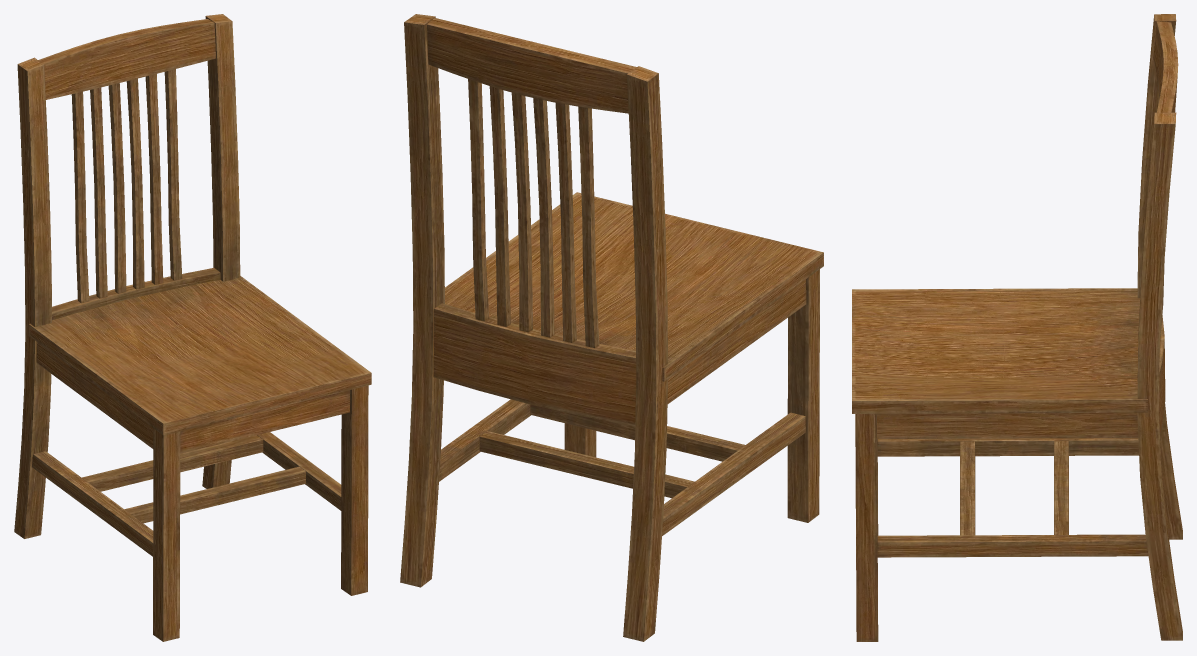
The model's file is prop-library-chair.glb.
3 renders of one model, left to right at view 1: azimuth 30°, elevation 25°; view 2: azimuth 150°, elevation 25°; view 3: azimuth 270°, elevation 25°, orthographic. The views are drawn at different scales.
Parts seen in each view (by area): view 1: Cube.006; view 2: Cube.006; view 3: Cube.006.
Part boxes in pixels (x1=…): Cube.006: x1=14, y1=14, x2=371, y2=641; Cube.006: x1=400, y1=14, x2=823, y2=641; Cube.006: x1=852, y1=14, x2=1182, y2=641.
Size of the model in its own units: 0.4096 by 0.8949 by 0.5129.
1 material, 1 textured.
